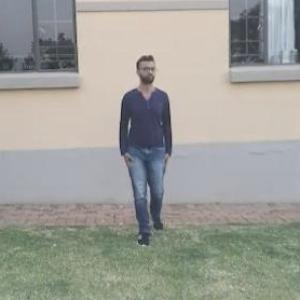follow: (112, 41, 182, 265)
